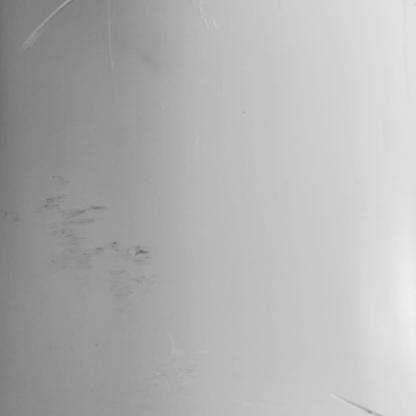sunshang: (21, 1, 70, 51), (332, 393, 383, 416)
